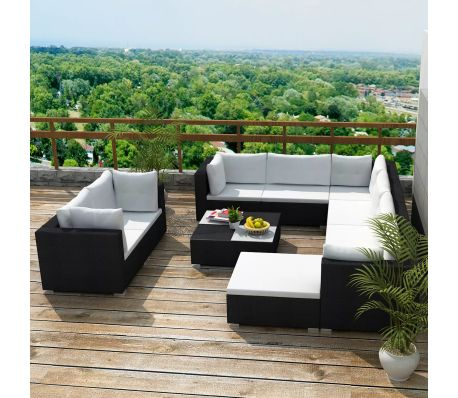chairs: (194, 148, 409, 335), (32, 172, 179, 300)
